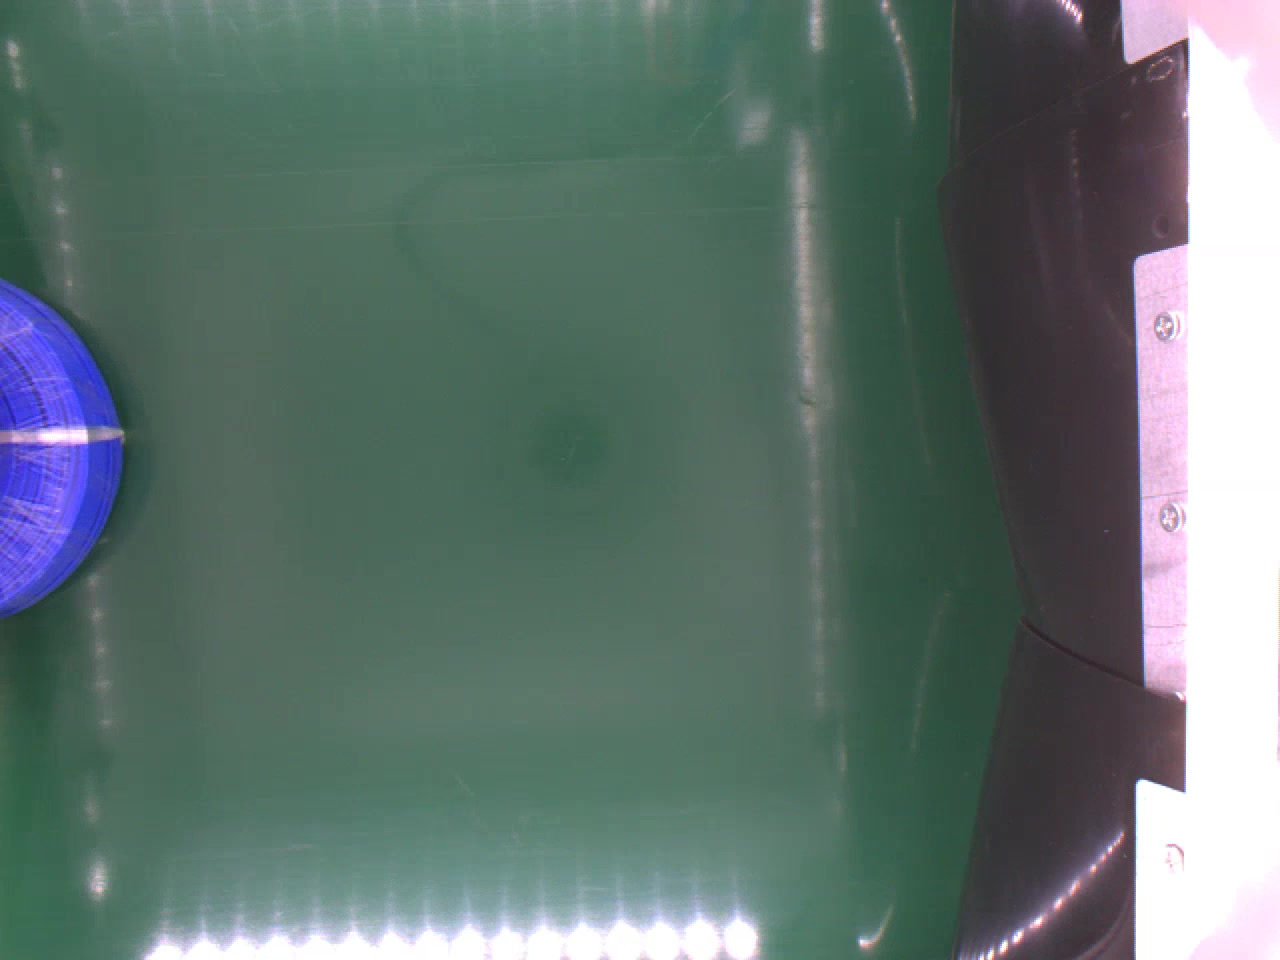blue: (0, 274, 126, 620)
